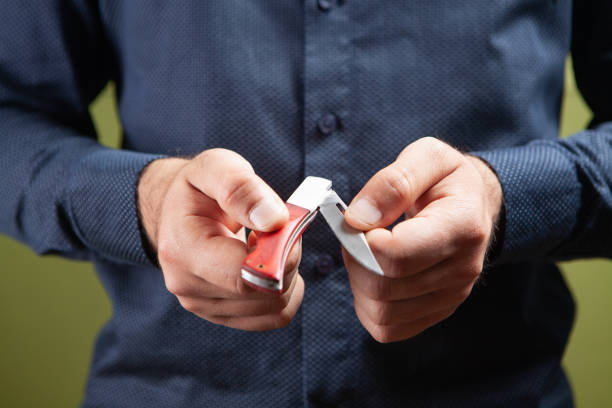knife: (239, 176, 384, 291)
